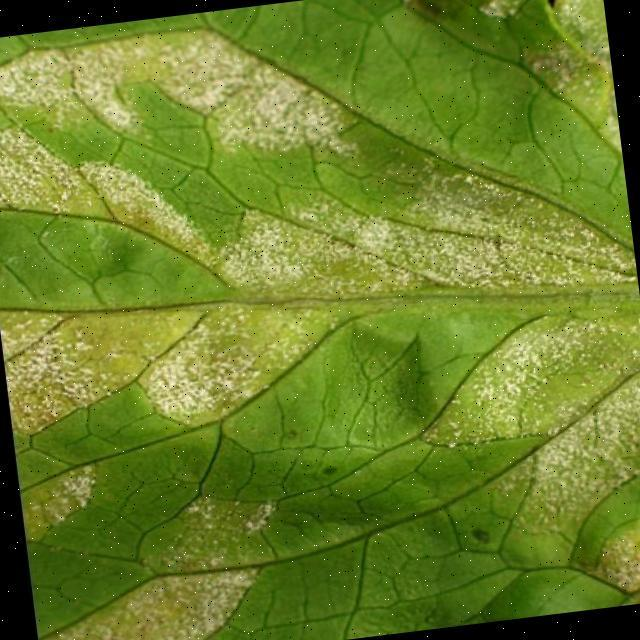Powdery_Mildew: (0, 6, 399, 448)
